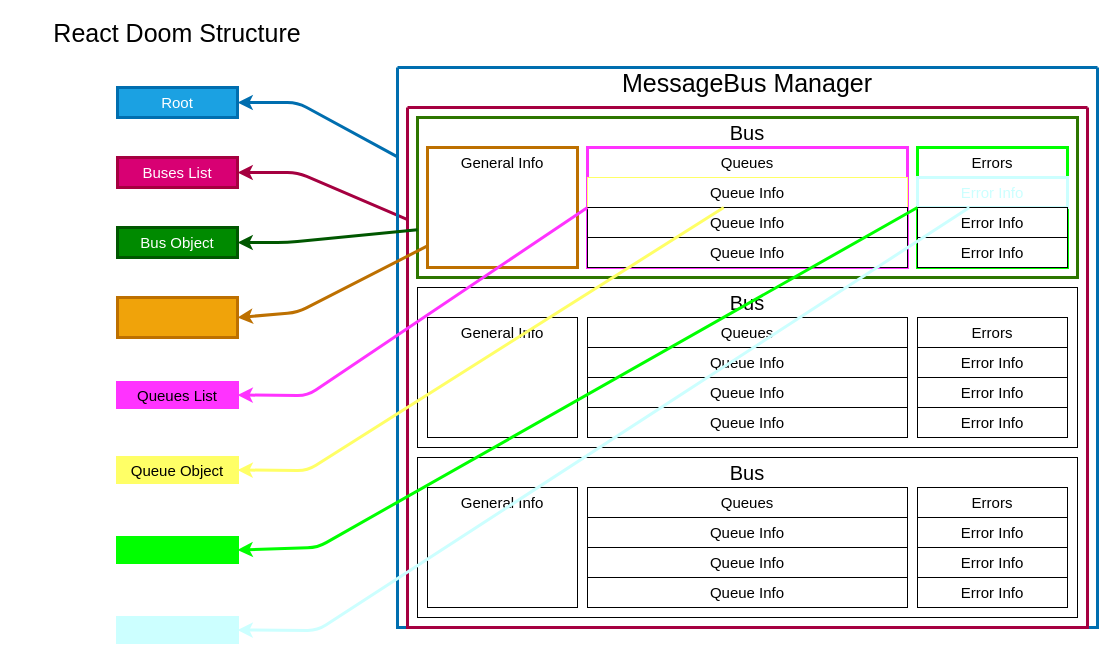
Image size: 1116x661. Some labels were removed from this diagram. Here are the shapes that lost their labels. From the top down, the centre of each, then its label:
At [177,317]: "General Info Object".
At [177,550]: "Errors List".
At [177,630]: "Error Object".
